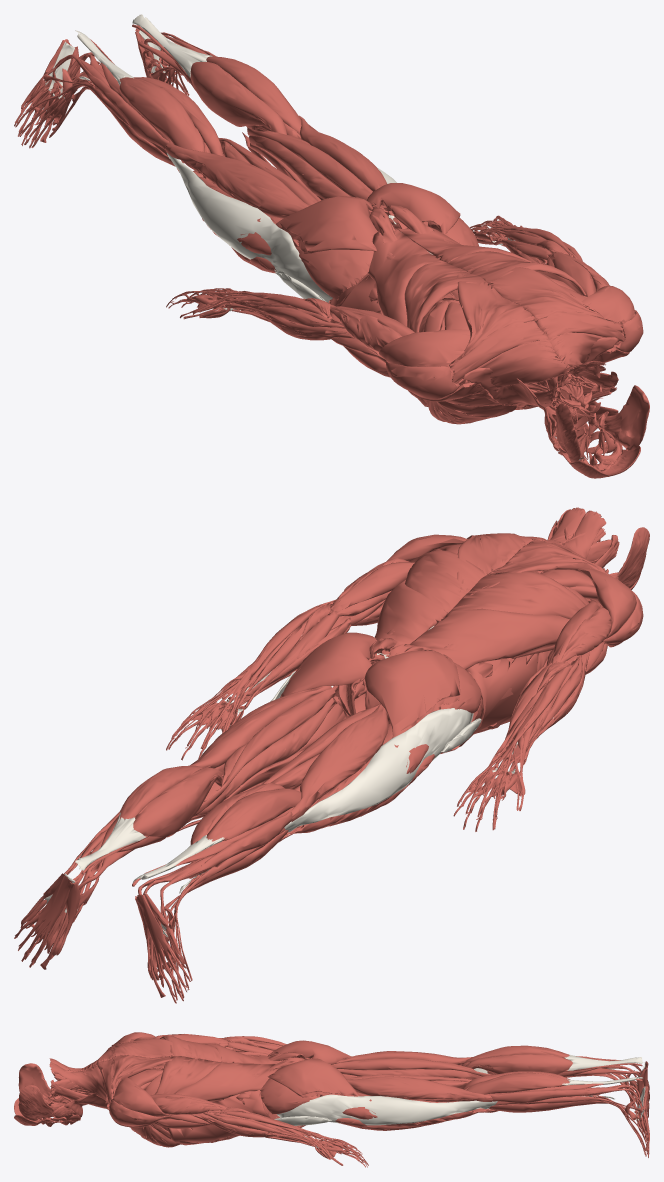
The model's file is anatomy-low.glb.
3 views of the same model, one above another, from view 1: azimuth 30°, elevation 25°; view 2: azimuth 150°, elevation 25°; view 3: azimuth 270°, elevation 25° (orthographic). The views are drawn at different scales.
Visible parts, largest first — view 1: right latissimus dorsi, right iliotibial tract, right gluteus maximus, long head of right biceps femoris, left latissimus dorsi, medial head of left gastrocnemius, lateral head of right gastrocnemius, ascending part of left trapezius, ascending part of right trapezius, descending part of right trapezius, spinal part of right deltoid, right gluteus medius (+27 smaller); view 2: right latissimus dorsi, right iliotibial tract, left latissimus dorsi, right gluteus maximus, long head of right biceps femoris, left gluteus maximus, medial head of left gastrocnemius, right external oblique, long head of left biceps femoris, lateral head of right gastrocnemius, left semimembranosus, left semitendinosus (+28 smaller); view 3: left latissimus dorsi, left iliotibial tract, long head of left biceps femoris, left gluteus maximus, medial head of right gastrocnemius, left external oblique, right latissimus dorsi, lateral head of left gastrocnemius, right semitendinosus, spinal part of left deltoid, left gluteus medius, ascending part of left trapezius (+40 smaller).
Part boxes in pixels (x1,y1,x2,y2): right latissimus dorsi: (367, 224, 488, 332); right iliotibial tract: (166, 152, 332, 302); right gluteus maximus: (276, 196, 379, 253); long head of right biceps femoris: (165, 143, 309, 218); left latissimus dorsi: (389, 217, 585, 295); medial head of left gastrocnemius: (190, 62, 287, 134); lateral head of right gastrocnemius: (119, 77, 204, 173); ascending part of left trapezius: (468, 267, 606, 321); ascending part of right trapezius: (457, 270, 536, 356); descending part of right trapezius: (476, 339, 585, 387); spinal part of right deltoid: (379, 329, 470, 367); right gluteus medius: (296, 246, 373, 300); right latissimus dorsi: (388, 571, 585, 669); right iliotibial tract: (284, 708, 473, 832); left latissimus dorsi: (374, 550, 487, 656); right gluteus maximus: (365, 650, 460, 737); long head of right biceps femoris: (291, 704, 388, 821); left gluteus maximus: (280, 632, 376, 697); medial head of left gastrocnemius: (133, 767, 222, 837); right external oblique: (459, 653, 547, 746); long head of left biceps femoris: (190, 686, 331, 768); lateral head of right gastrocnemius: (206, 788, 301, 841); left semimembranosus: (195, 697, 336, 816); left semitendinosus: (193, 687, 335, 816); left latissimus dorsi: (154, 1056, 279, 1102); left iliotibial tract: (277, 1094, 497, 1125); long head of left biceps femoris: (346, 1076, 492, 1101); left gluteus maximus: (268, 1058, 360, 1097); medial head of right gastrocnemius: (465, 1054, 572, 1074); left external oblique: (165, 1090, 270, 1145); right latissimus dorsi: (160, 1035, 283, 1064); lateral head of left gastrocnemius: (466, 1072, 569, 1094); right semitendinosus: (332, 1058, 491, 1076); spinal part of left deltoid: (113, 1077, 170, 1116); left gluteus medius: (260, 1078, 317, 1114); ascending part of left trapezius: (111, 1055, 200, 1095).
Size of the model in its own units: 639 by 251 by 1672.
